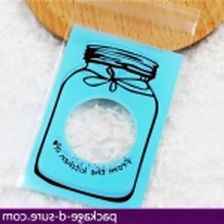snack: (10, 0, 207, 207)
